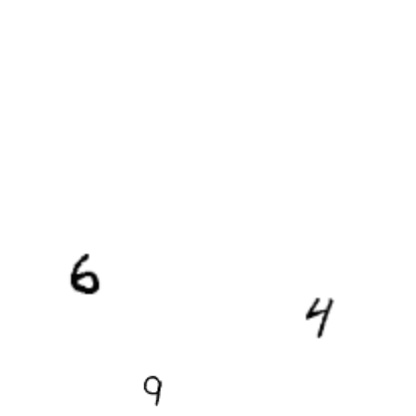0: (16, 11, 58, 53)
5: (231, 321, 287, 377)
6: (137, 263, 151, 277)
7: (312, 325, 368, 381)
Dress: (142, 293, 226, 377)
Sneaker: (187, 12, 243, 68), (308, 52, 350, 94)
